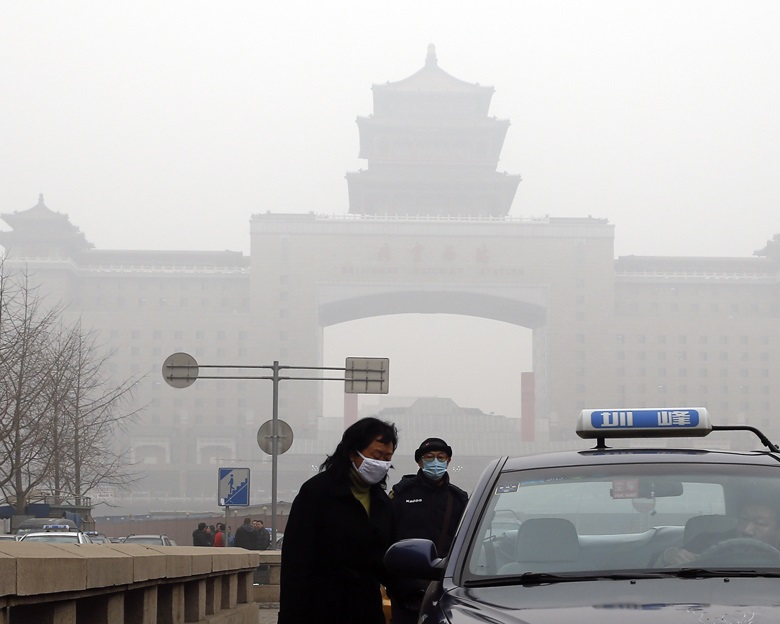face: (736, 506, 773, 545)
face_mask: (361, 439, 394, 482), (423, 450, 446, 473)
